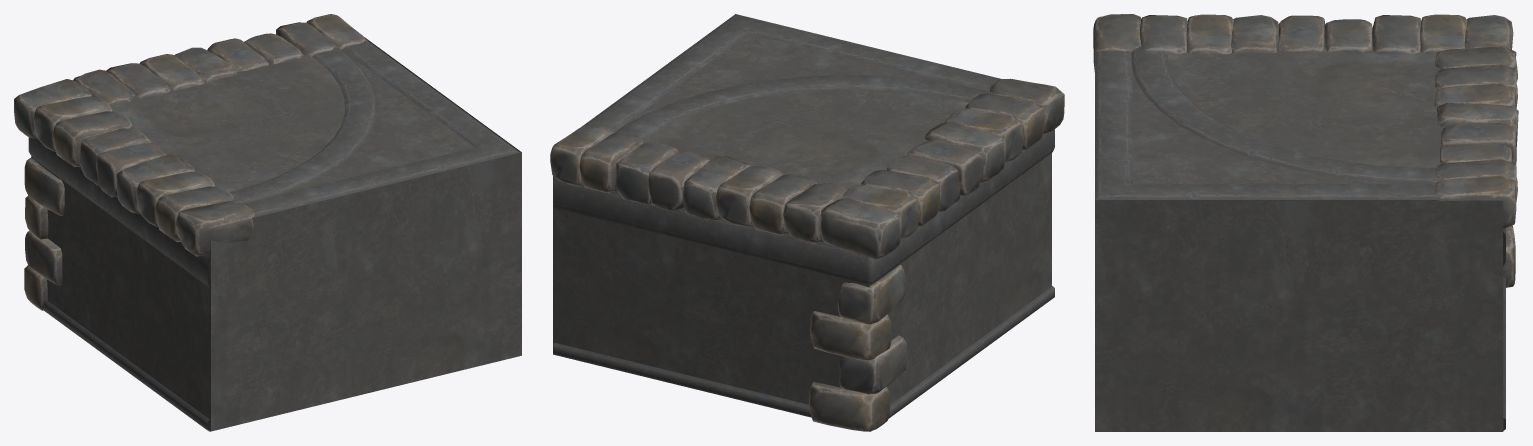
The model's file is Section01.fbx.
The picture shows the model from 3 angles, left to right: view 1: azimuth 30°, elevation 25°; view 2: azimuth 150°, elevation 25°; view 3: azimuth 270°, elevation 25°; orthographic projection. The views are drawn at different scales.
Parts seen in each view (by area): view 1: Box036; view 2: Box036; view 3: Box036.
Part boxes in pixels (x1=…): Box036: x1=14, y1=14, x2=521, y2=431; Box036: x1=550, y1=14, x2=1064, y2=431; Box036: x1=1093, y1=14, x2=1518, y2=431.
Size of the model in its own units: 421 by 261 by 416.
